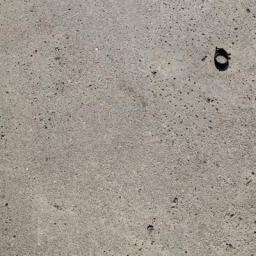FOD: (209, 44, 237, 74)
